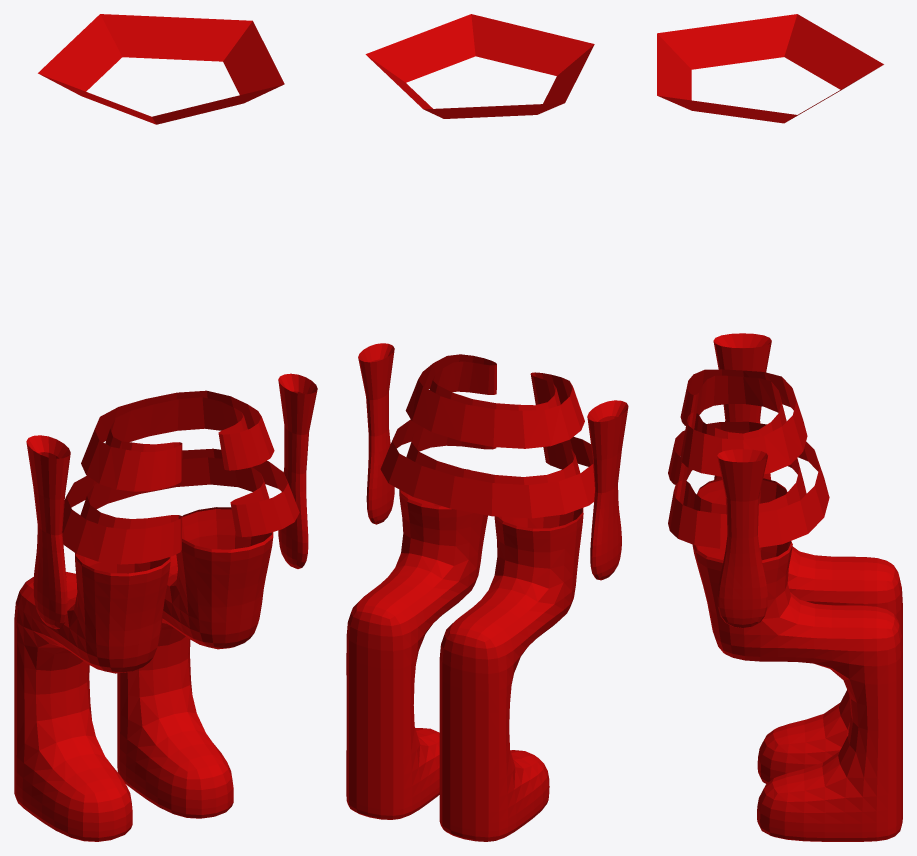
Rendered from NravixFashist(r).obj.
The picture shows the model from 3 angles, left to right: view 1: azimuth 30°, elevation 25°; view 2: azimuth 150°, elevation 25°; view 3: azimuth 270°, elevation 25°; orthographic projection. The views are drawn at different scales.
Size of the model in its own units: 0.8071 by 2.14 by 0.6417.
